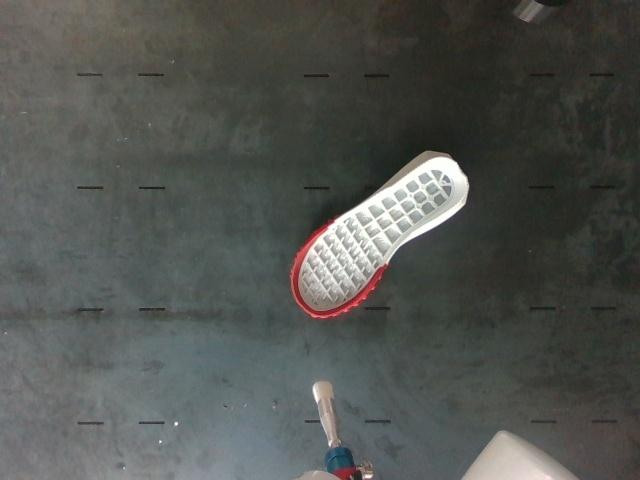shoes: (293, 157, 468, 318)
